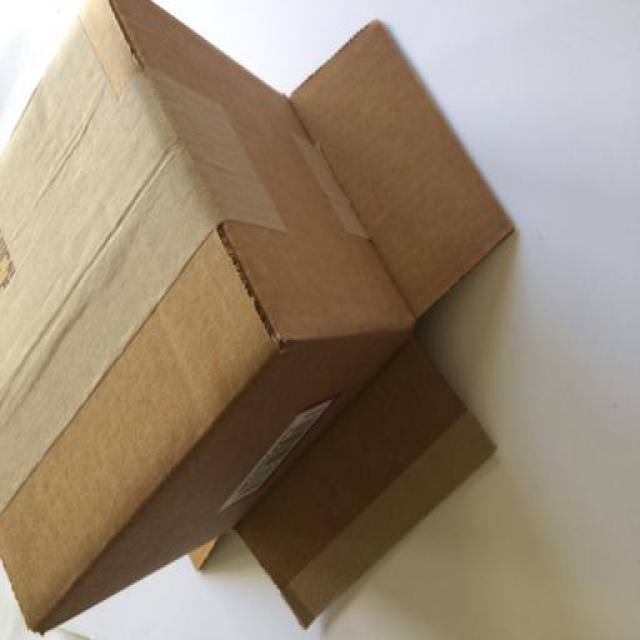cardboard: (1, 5, 545, 640)
